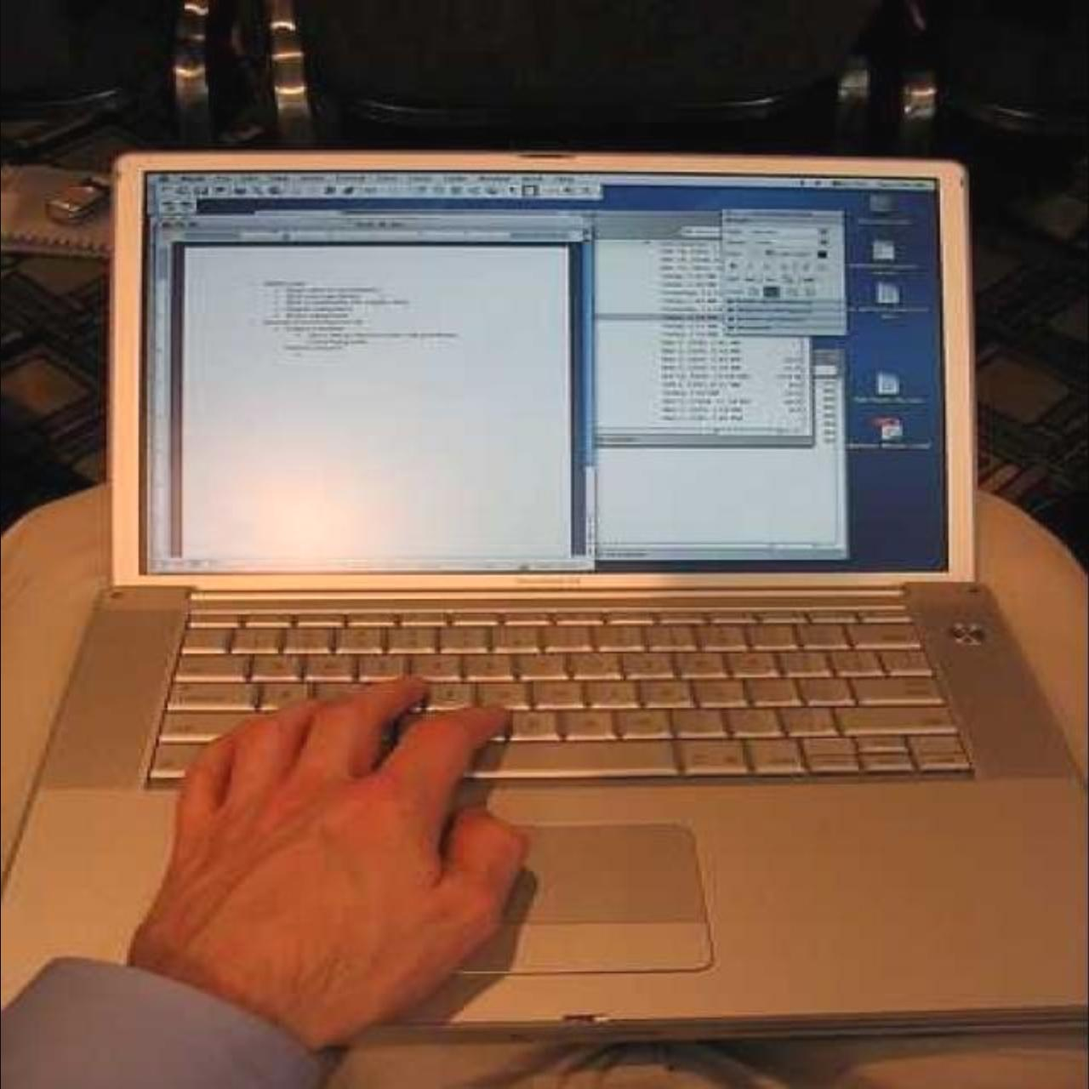laptop: (22, 159, 1040, 1080)
